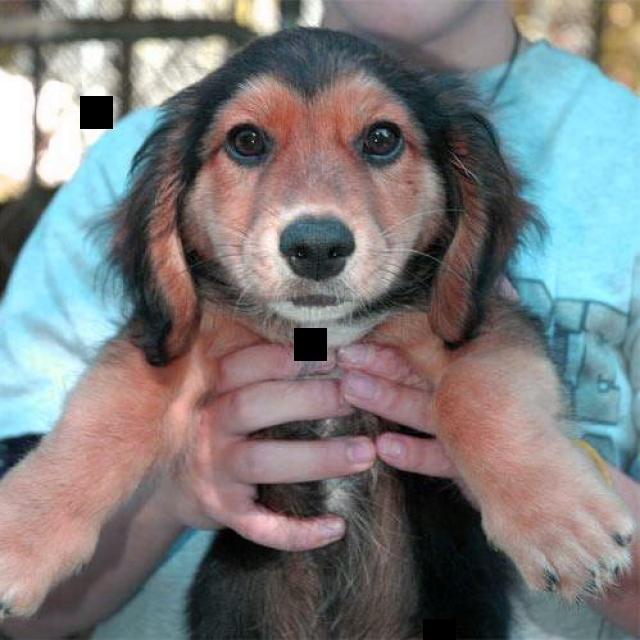puppy-dog: (1, 20, 640, 640)
